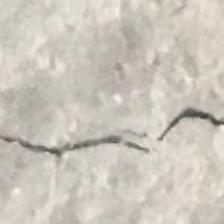Crack: (0, 62, 224, 224)
